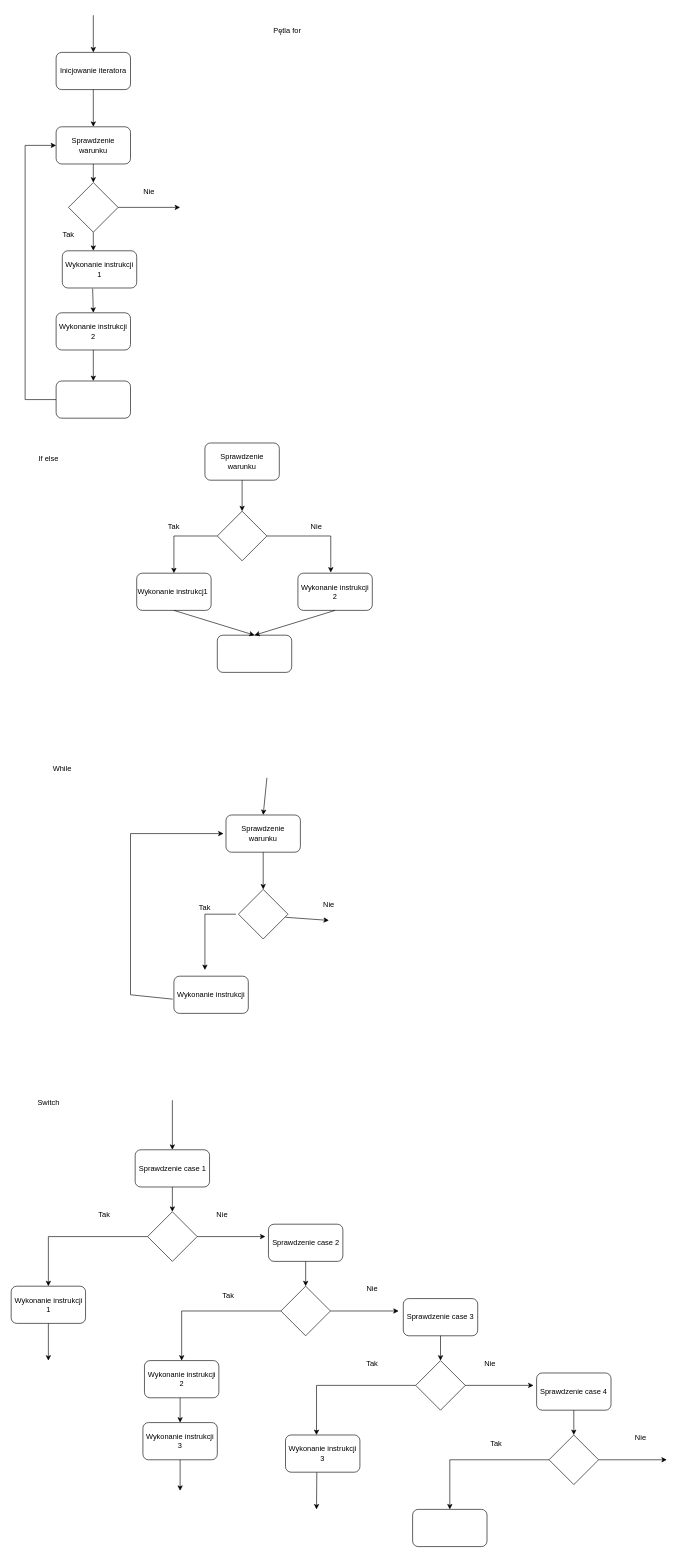
Some shapes in this 683 by 1557 pixel diagram are drawn without their labels. Here are the shapes that lost their labels. From the top down, the box of each, then its label:
(55, 380, 131, 418): Operacje na iteratorze
(412, 1509, 487, 1547): Wykonanie instrukcji 4
